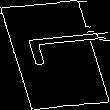L_E: (7, 35, 103, 75)
